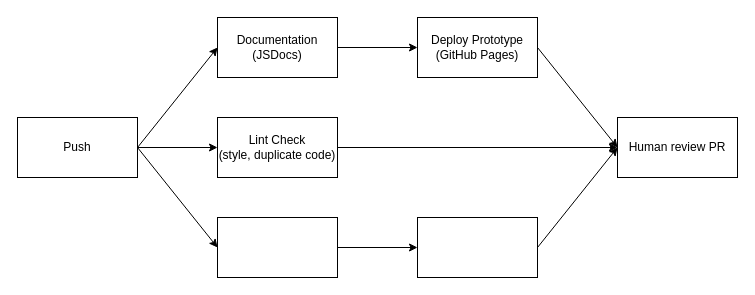
The diagram is 755 pixels wide and 295 high, and some of its shapes have lost their labels. The centre of each missing label's shape, as x and y in pixels:
"Code coverage (Jest)" belongs at (x=477, y=247).
"Unit tests (Jest)" belongs at (x=277, y=247).
